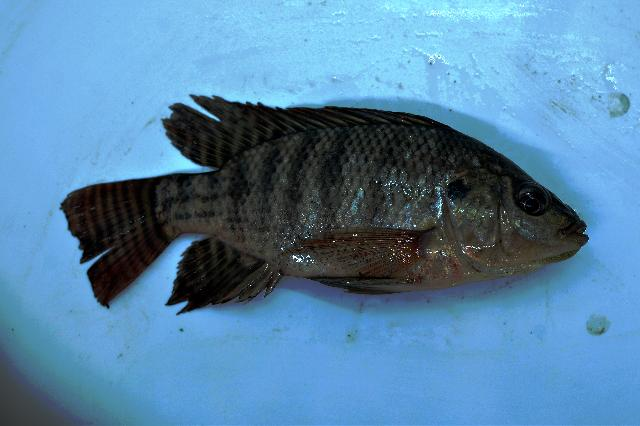Columnaris Disease: (62, 98, 588, 312)
